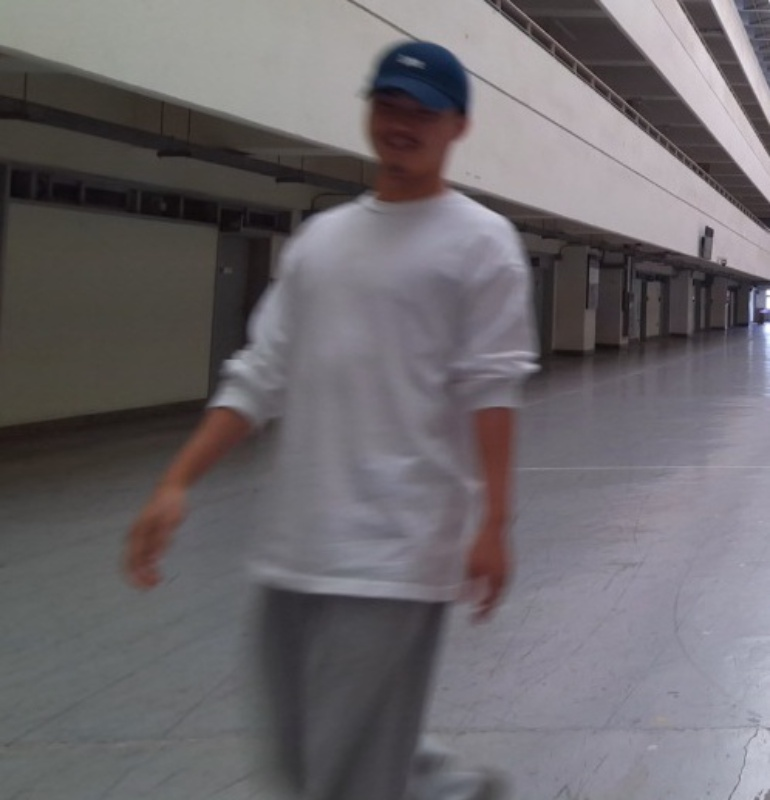person: (126, 40, 539, 800)
